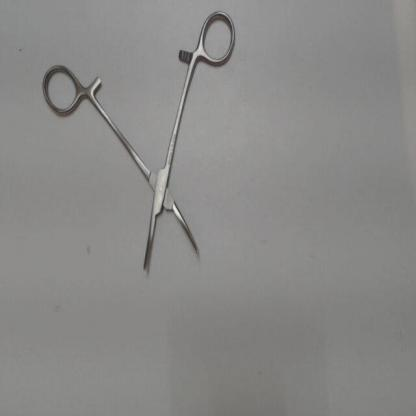Crile Artery Forceps: (39, 3, 242, 280)
